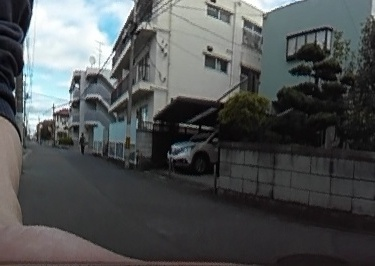person: (78, 129, 86, 153)
